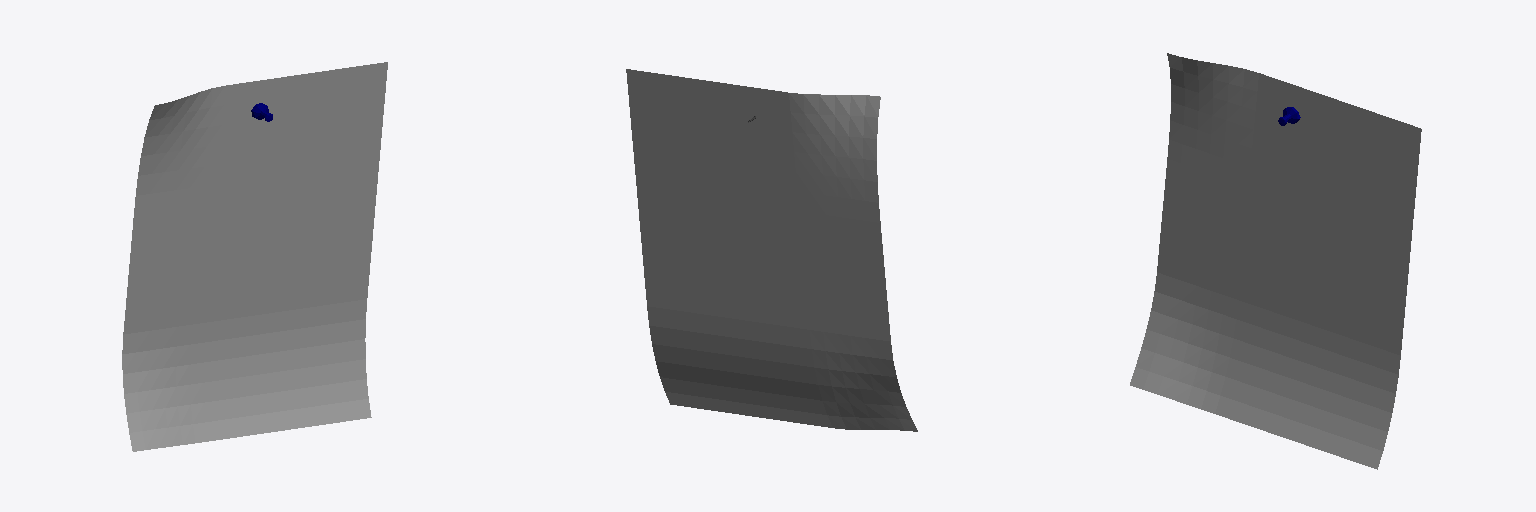
The model's file is paperpin5.obj.
3 renders of one model, left to right at view 1: azimuth 30°, elevation 25°; view 2: azimuth 150°, elevation 25°; view 3: azimuth 330°, elevation 25°, orthographic.
Visible parts, largest first — view 1: drawing.006; view 2: drawing.006; view 3: drawing.006.
Part boxes in pixels (x1,y1,x2,y2): drawing.006: (122, 62, 387, 451); drawing.006: (626, 69, 917, 431); drawing.006: (1130, 53, 1421, 469).
Size of the model in its own units: 0.2421 by 0.3059 by 0.0419.